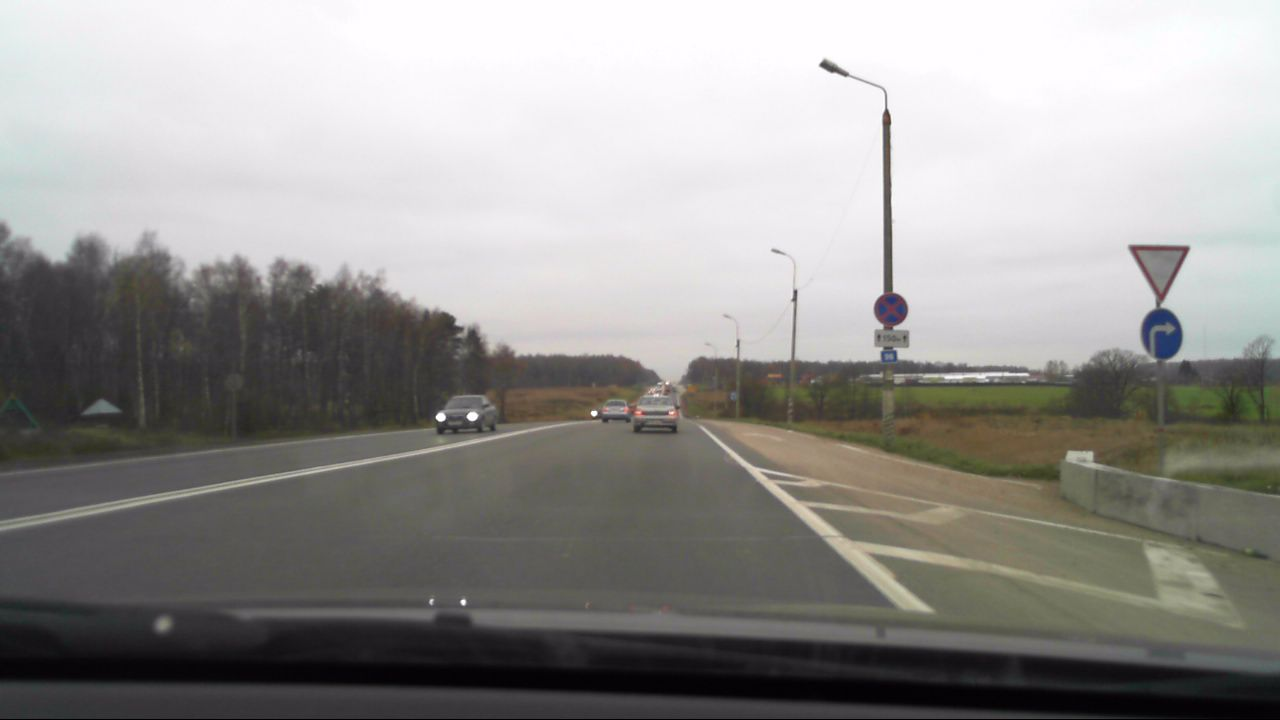No Parking: (872, 292, 908, 329)
